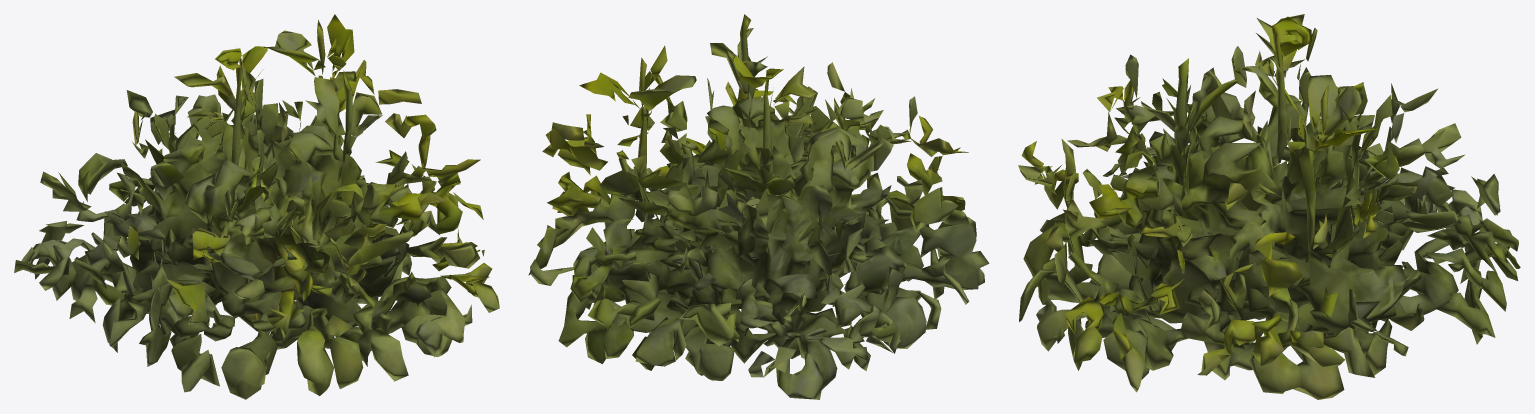
File: bush.glb
3 views of the same model, side by side, from view 1: azimuth 30°, elevation 25°; view 2: azimuth 150°, elevation 25°; view 3: azimuth 270°, elevation 25° (orthographic). The views are drawn at different scales.
Visible parts, largest first — view 1: tripo_node_cf932035-d5ef-400c-be79-30f3d04db8b1; view 2: tripo_node_cf932035-d5ef-400c-be79-30f3d04db8b1; view 3: tripo_node_cf932035-d5ef-400c-be79-30f3d04db8b1.
Boxes of the visible parts, left/top/right/bottom form: tripo_node_cf932035-d5ef-400c-be79-30f3d04db8b1: left=14, top=14, right=499, bottom=399; tripo_node_cf932035-d5ef-400c-be79-30f3d04db8b1: left=528, top=14, right=989, bottom=399; tripo_node_cf932035-d5ef-400c-be79-30f3d04db8b1: left=1018, top=14, right=1520, bottom=399.
Size of the model in its own units: 1.58 by 1.04 by 1.6.
Materials: 1 (1 with a texture image).
